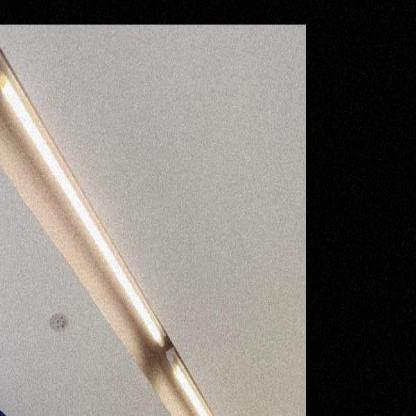light_on: (0, 44, 168, 348), (166, 346, 233, 415)
